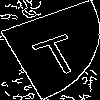T: (25, 25, 88, 79)
